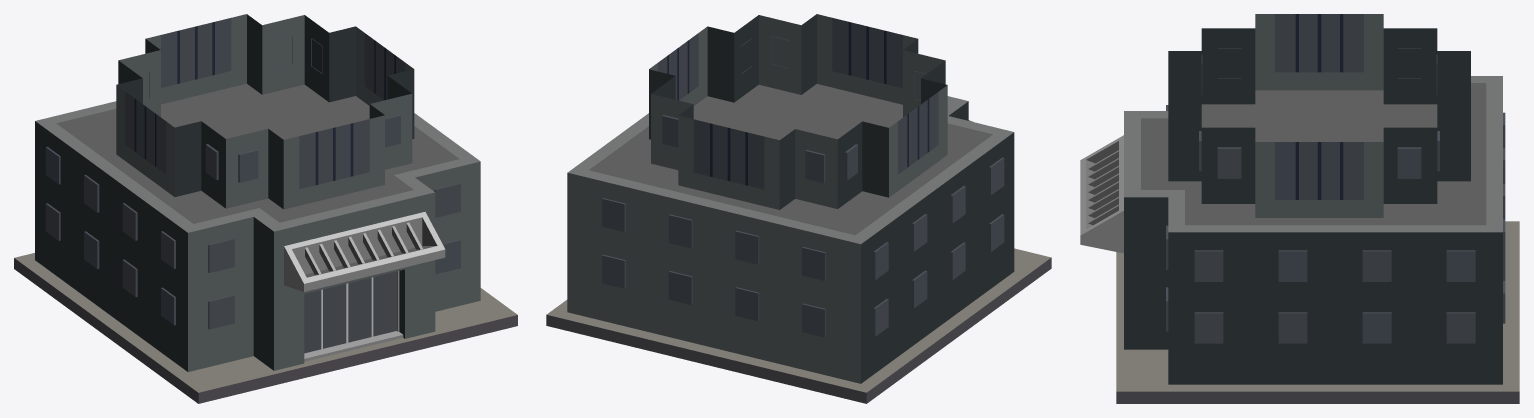
File: TB_CITY_Skysc_F_Bottom_Gray.FBX
The picture shows the model from 3 angles, left to right: view 1: azimuth 30°, elevation 25°; view 2: azimuth 150°, elevation 25°; view 3: azimuth 270°, elevation 25°; orthographic projection. The views are drawn at different scales.
Parts seen in each view (by area): view 1: TB_CITY_Skysc_F_Bottom_Gray; view 2: TB_CITY_Skysc_F_Bottom_Gray; view 3: TB_CITY_Skysc_F_Bottom_Gray.
Boxes of the visible parts, <box> form: TB_CITY_Skysc_F_Bottom_Gray: <box>14,14,517,403</box>; TB_CITY_Skysc_F_Bottom_Gray: <box>546,14,1051,403</box>; TB_CITY_Skysc_F_Bottom_Gray: <box>1080,14,1519,403</box>.
Bounding box in the file's own units: 24 × 15.8 × 26.14.
